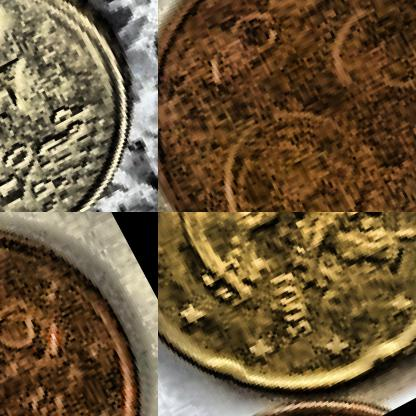coin: (158, 0, 415, 211), (158, 212, 415, 415), (0, 0, 157, 211), (0, 212, 157, 415)
